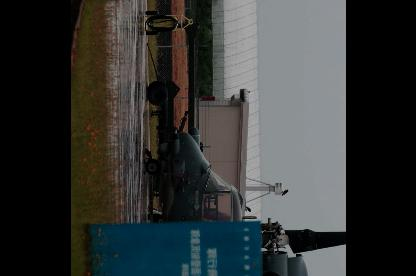Tornado: (142, 127, 347, 275)
